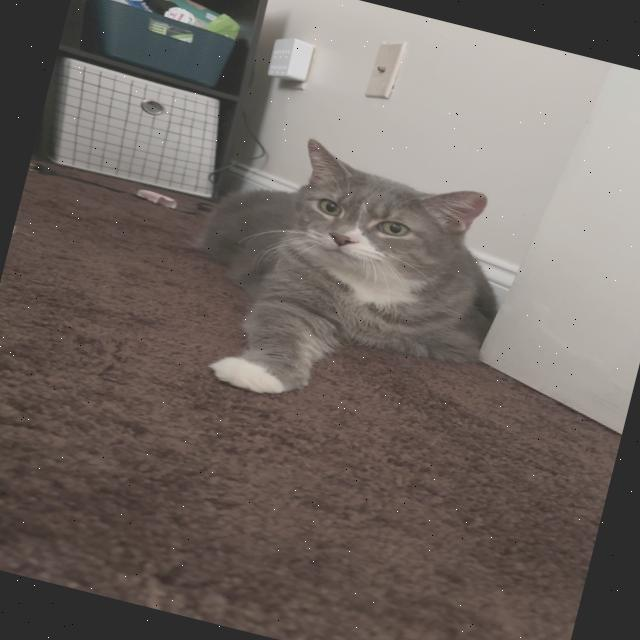manx_cat: (220, 116, 532, 323)
